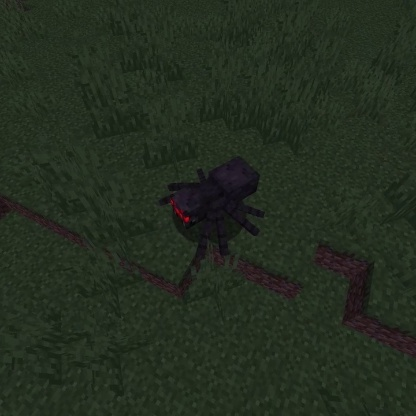spider: (154, 153, 269, 262)
